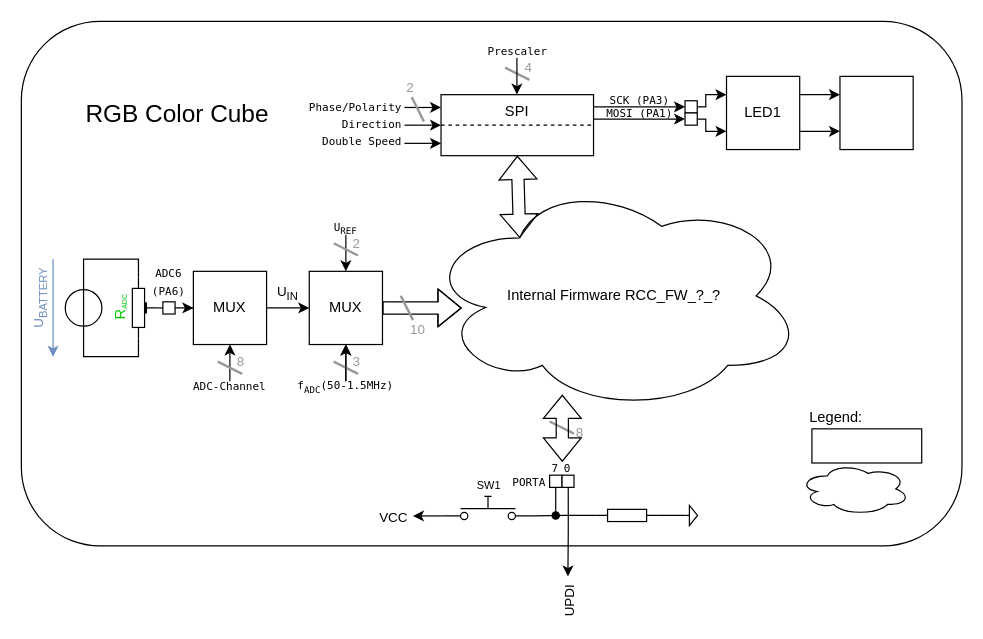
Image size: 983x639. Some labels were removed from this diagram. The centre of each missing label's shape, as x and y in pixels:
"Hardware" goes at [866,445].
"LED2" goes at [876,112].
"Software" goes at [854,488].
